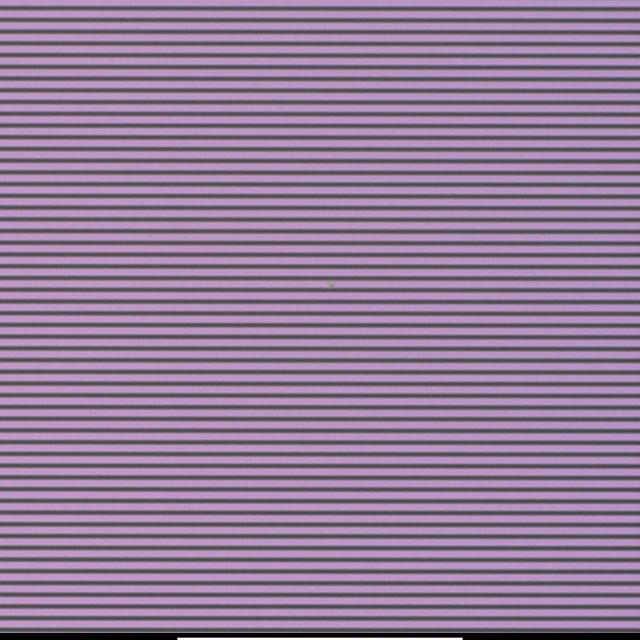nonvisual: (321, 272, 344, 298)
